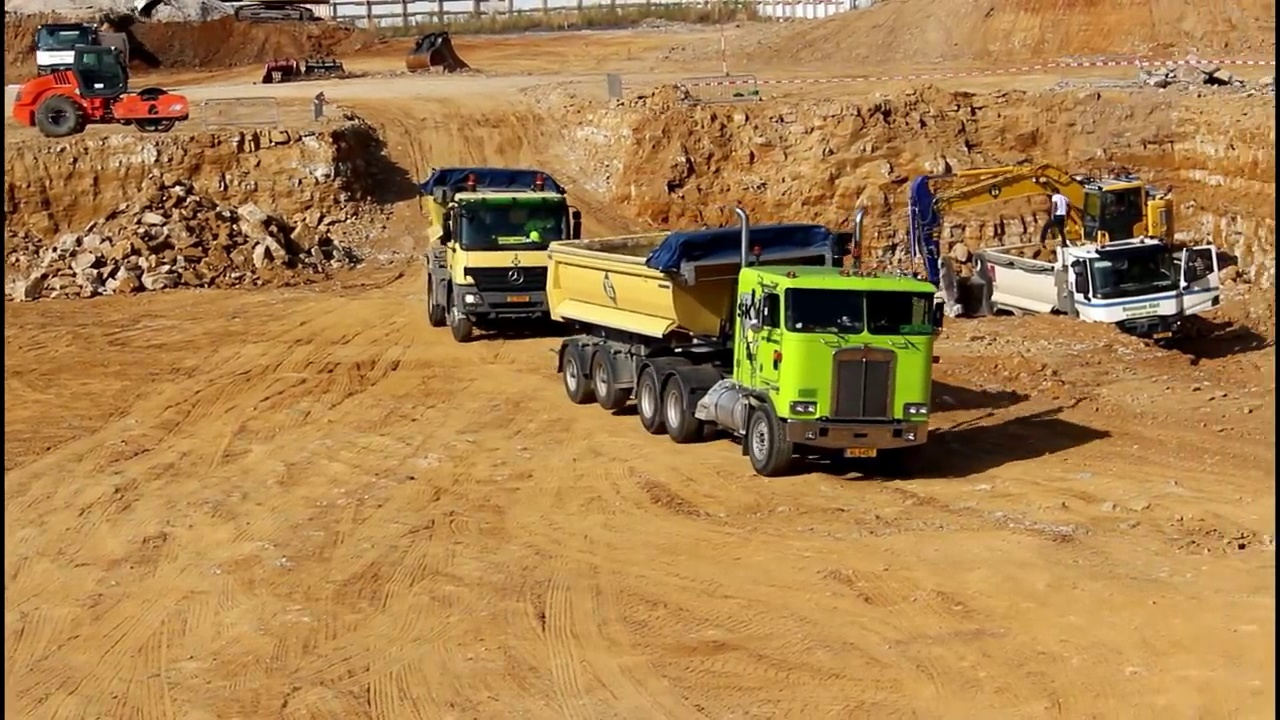compactor: (12, 44, 192, 137)
excavator: (903, 157, 1241, 324)
truck: (546, 205, 947, 479), (415, 161, 589, 348), (974, 231, 1227, 359), (29, 21, 133, 98)
worker: (1037, 182, 1075, 252)
